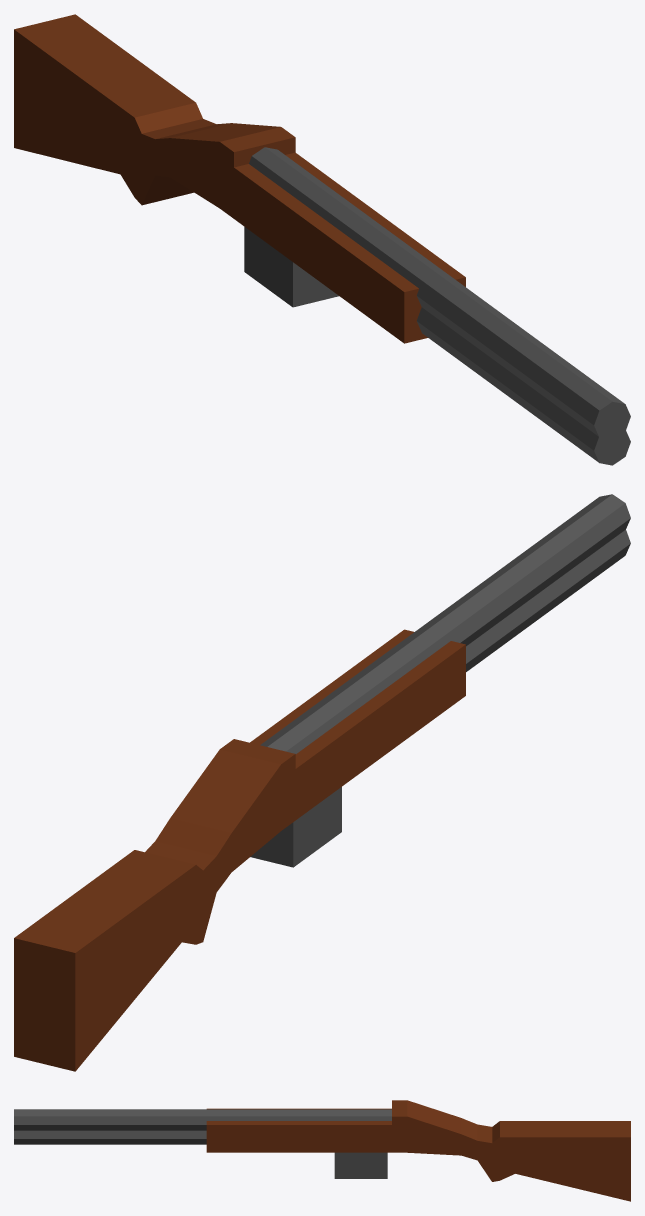
Rendered from Boomstick.fbx.
3 renders of one model, top to bottom at view 1: azimuth 30°, elevation 25°; view 2: azimuth 150°, elevation 25°; view 3: azimuth 270°, elevation 25°, orthographic. The views are drawn at different scales.
Parts seen in each view (by area): view 1: Boomstick, Magazine; view 2: Boomstick, Magazine; view 3: Boomstick, Magazine.
Part boxes in pixels (bbox=[...]): Boomstick: bbox=[14, 14, 630, 465]; Magazine: bbox=[244, 227, 338, 307]; Boomstick: bbox=[14, 494, 630, 1071]; Magazine: bbox=[250, 787, 341, 867]; Boomstick: bbox=[14, 1100, 630, 1201]; Magazine: bbox=[334, 1152, 387, 1178].
Size of the model in its own units: 0.05 by 0.1219 by 0.8.
